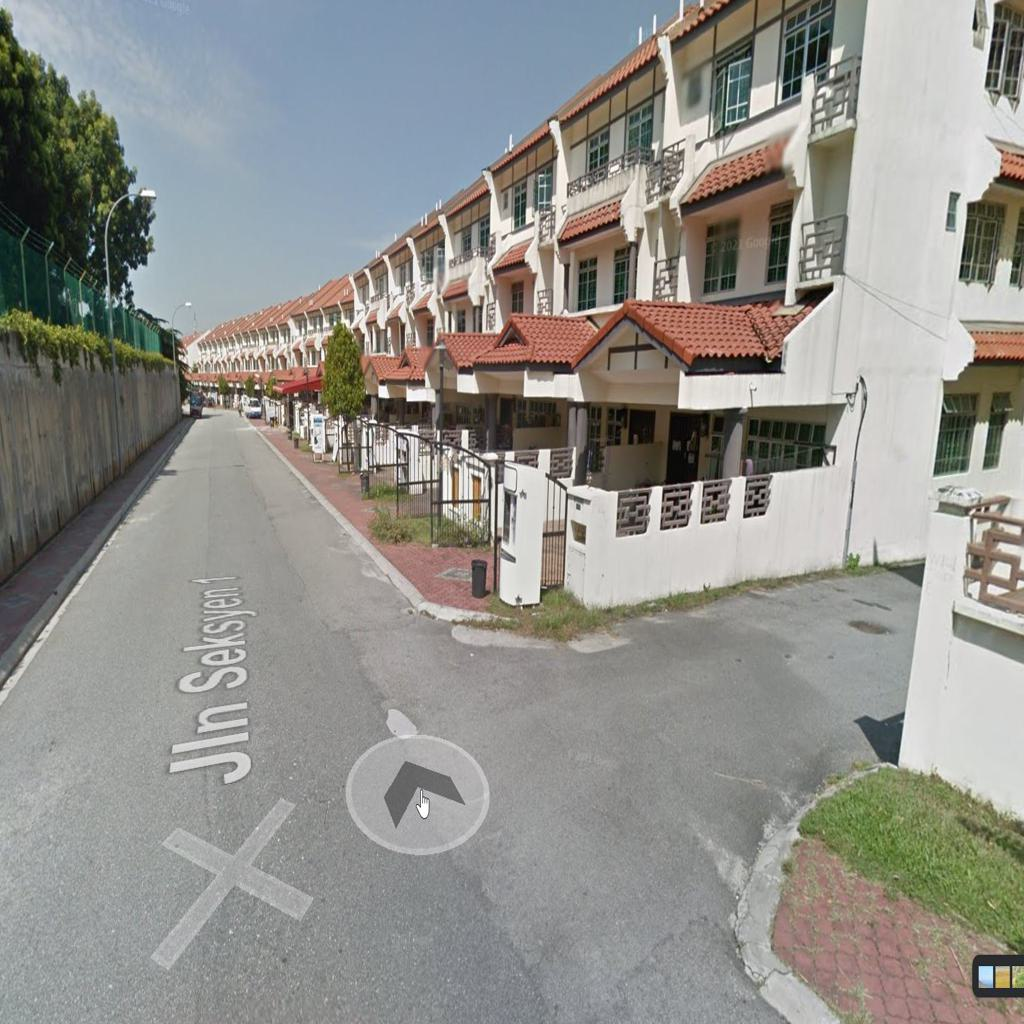Junction: (423, 554, 913, 890)
